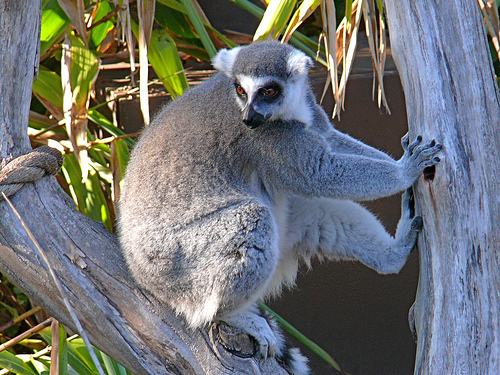cat: (117, 41, 439, 359)
